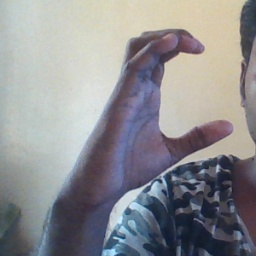C: (111, 24, 242, 159)
